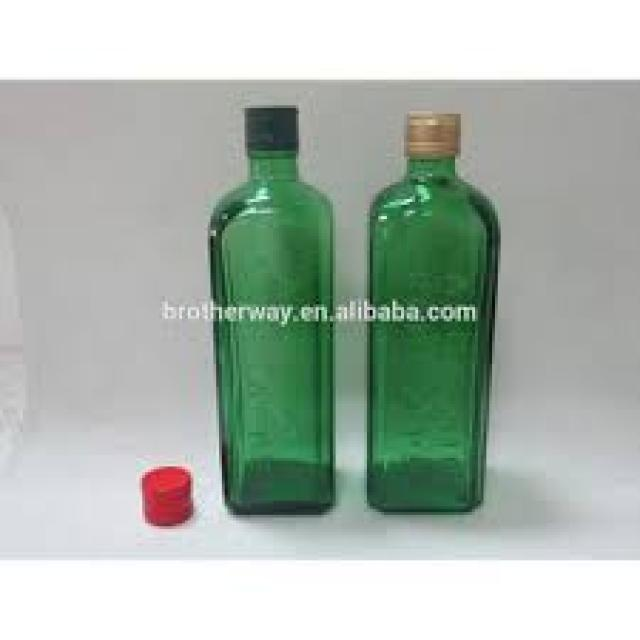glass: (208, 145, 336, 512), (364, 157, 495, 507)
metal: (137, 458, 188, 526), (239, 103, 299, 154), (398, 103, 458, 154)
